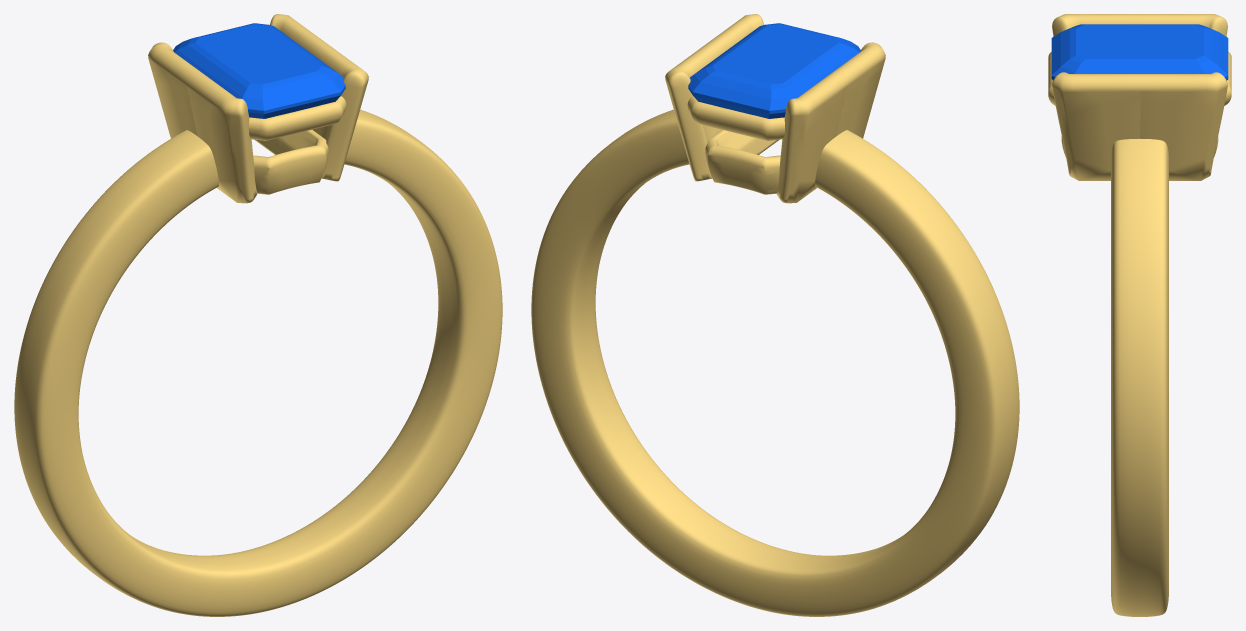
File: bluesapphire-emerald-yellowgold-halfmoonbezel-straightband-solitaire.glb
3 renders of one model, left to right at view 1: azimuth 30°, elevation 25°; view 2: azimuth 150°, elevation 25°; view 3: azimuth 270°, elevation 25°, orthographic.
Visible parts, largest first — view 1: metal, stone; view 2: metal, stone; view 3: metal, stone.
Part boxes in pixels (x1=…): metal: x1=14, y1=14, x2=502, y2=616; stone: x1=173, y1=23, x2=345, y2=118; metal: x1=531, y1=14, x2=1019, y2=616; stone: x1=688, y1=23, x2=860, y2=118; metal: x1=1048, y1=14, x2=1231, y2=616; stone: x1=1051, y1=24, x2=1228, y2=80.
Size of the model in its own units: 20.5 by 22.95 by 6.94.
